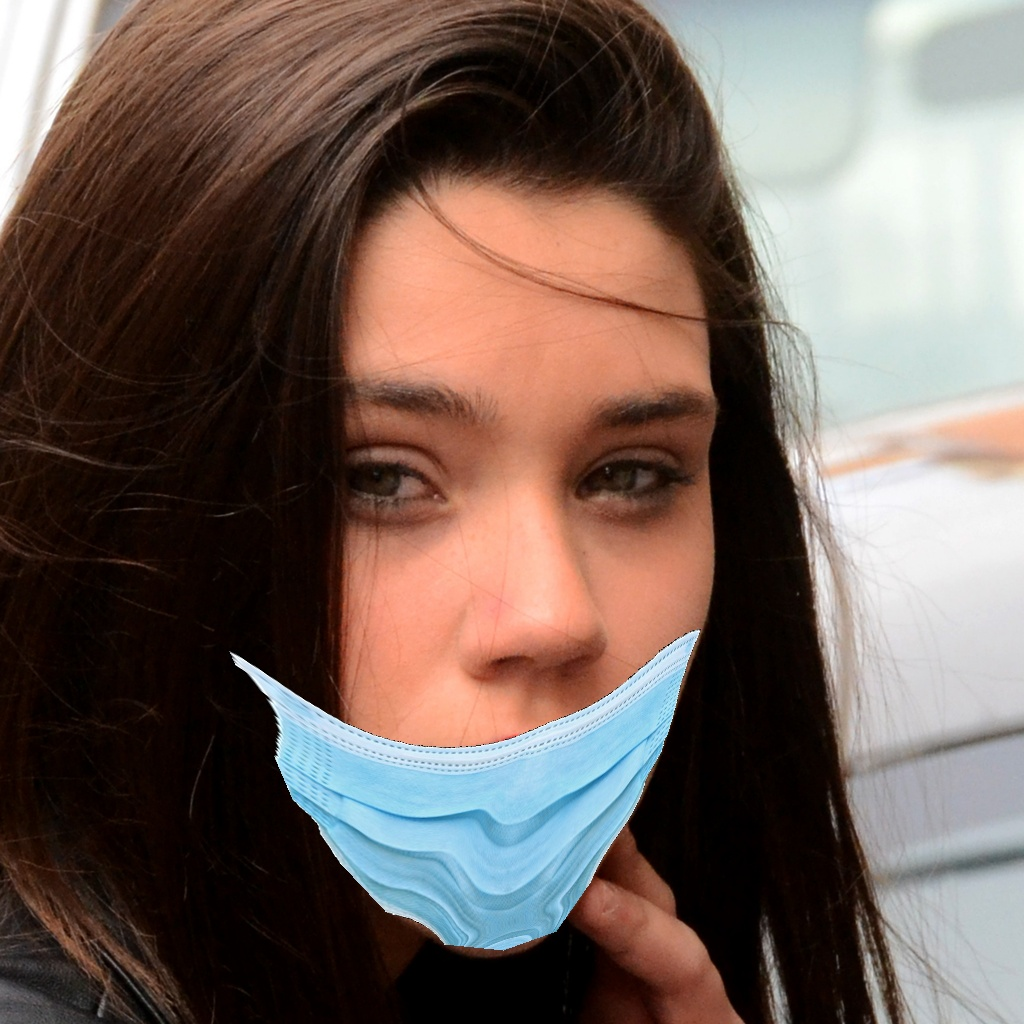mask_weared_incorrect: (290, 351, 714, 969)
